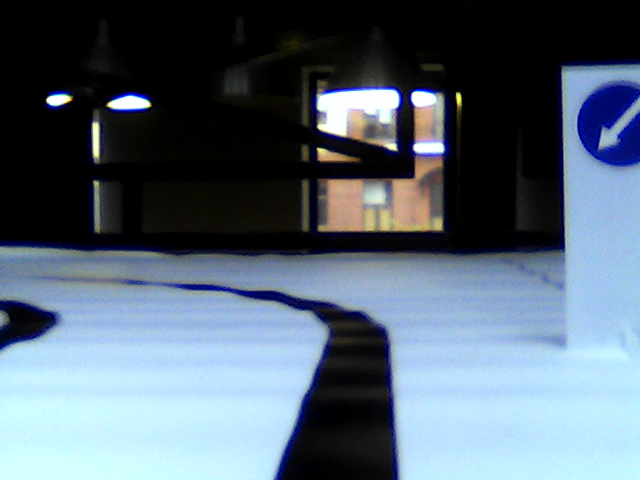prep: (575, 75, 640, 167)
